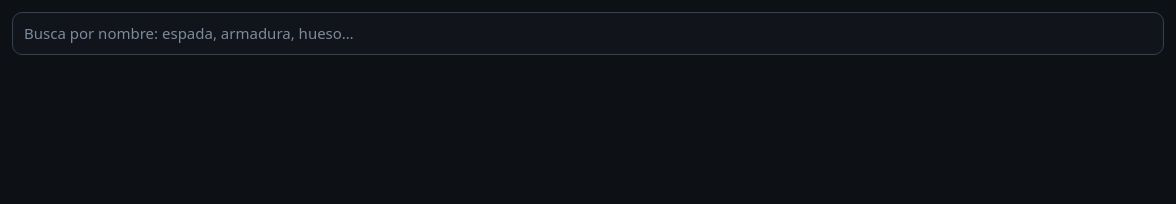
Scenario: SelectorObjeto › busca después de escribir y muestra los resultados
Later steps or results of the test are not shown.
Type "maestro" into the dropdown named "buscar objeto". click: (588, 33)
box: left=12, top=12, right=1164, bottom=54
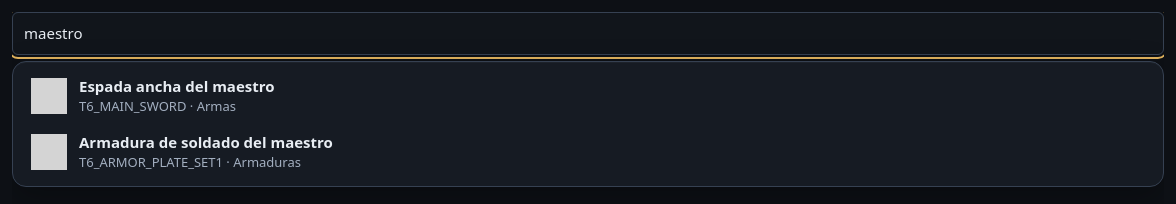
Expected: the number of options is 2, left=31, top=76, right=275, bottom=115; left=31, top=132, right=333, bottom=171
